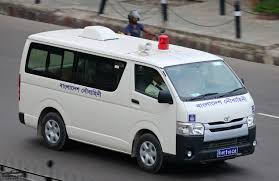ambulance: (16, 25, 258, 173)
